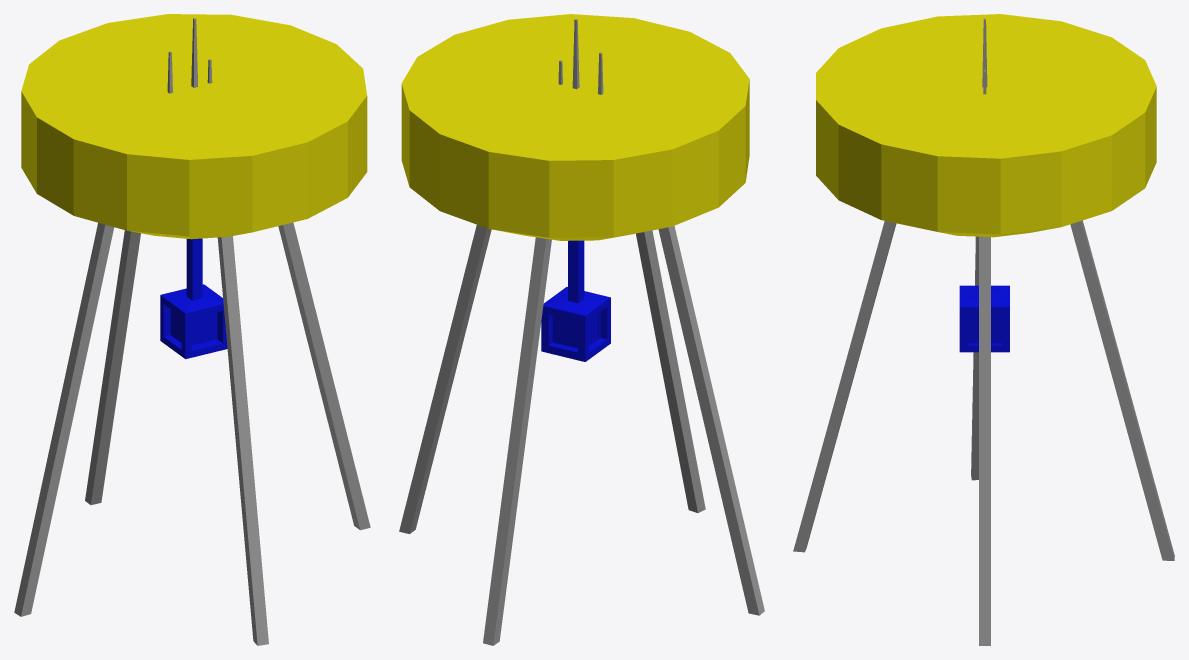
Rendered from CasillaCentralEnergia.fbx.
The picture shows the model from 3 angles, left to right: view 1: azimuth 30°, elevation 25°; view 2: azimuth 150°, elevation 25°; view 3: azimuth 270°, elevation 25°; orthographic projection.
Visible parts, largest first — view 1: Cilindro, Cubo.004, Cubo.002, Cubo.001, Cubo, Cubo.003; view 2: Cilindro, Cubo.003, Cubo.004, Cubo, Cubo.001, Cubo.002; view 3: Cilindro, Cubo.001, Cubo.003, Cubo.002, Cubo, Cubo.004.
Boxes of the visible parts, x1,y1,x2,y2 form: Cilindro: [21, 14, 367, 239]; Cubo.004: [14, 222, 114, 616]; Cubo.002: [217, 236, 268, 645]; Cubo.001: [278, 222, 370, 530]; Cubo: [160, 238, 227, 359]; Cubo.003: [85, 230, 140, 504]; Cilindro: [401, 14, 749, 240]; Cubo.003: [483, 237, 551, 645]; Cubo.004: [658, 226, 764, 615]; Cubo: [541, 240, 610, 361]; Cubo.001: [399, 224, 491, 533]; Cubo.002: [636, 230, 705, 512]; Cilindro: [816, 14, 1156, 237]; Cubo.001: [979, 236, 990, 645]; Cubo.003: [1070, 220, 1174, 560]; Cubo.002: [793, 221, 896, 552]; Cubo: [959, 285, 1009, 352]; Cubo.004: [971, 236, 978, 480].
Size of the model in its own units: 16.45 by 24.35 by 15.51.
